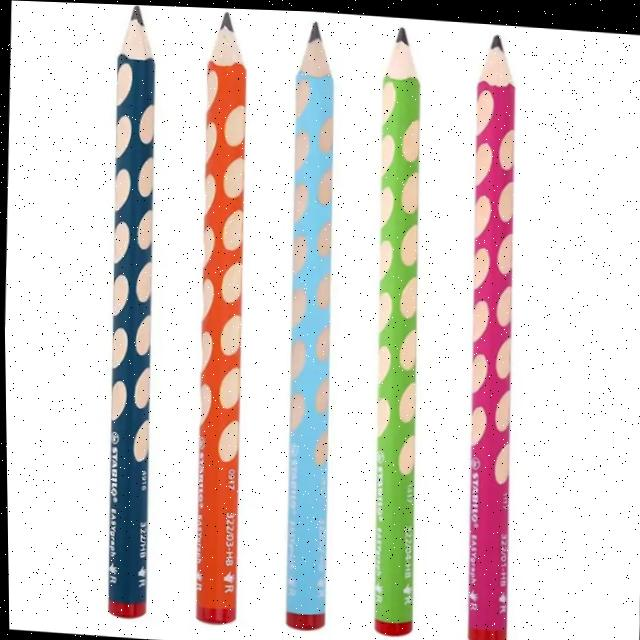pencil: (183, 10, 257, 630), (273, 15, 343, 633), (454, 28, 524, 640), (363, 20, 430, 639), (99, 4, 164, 623)
